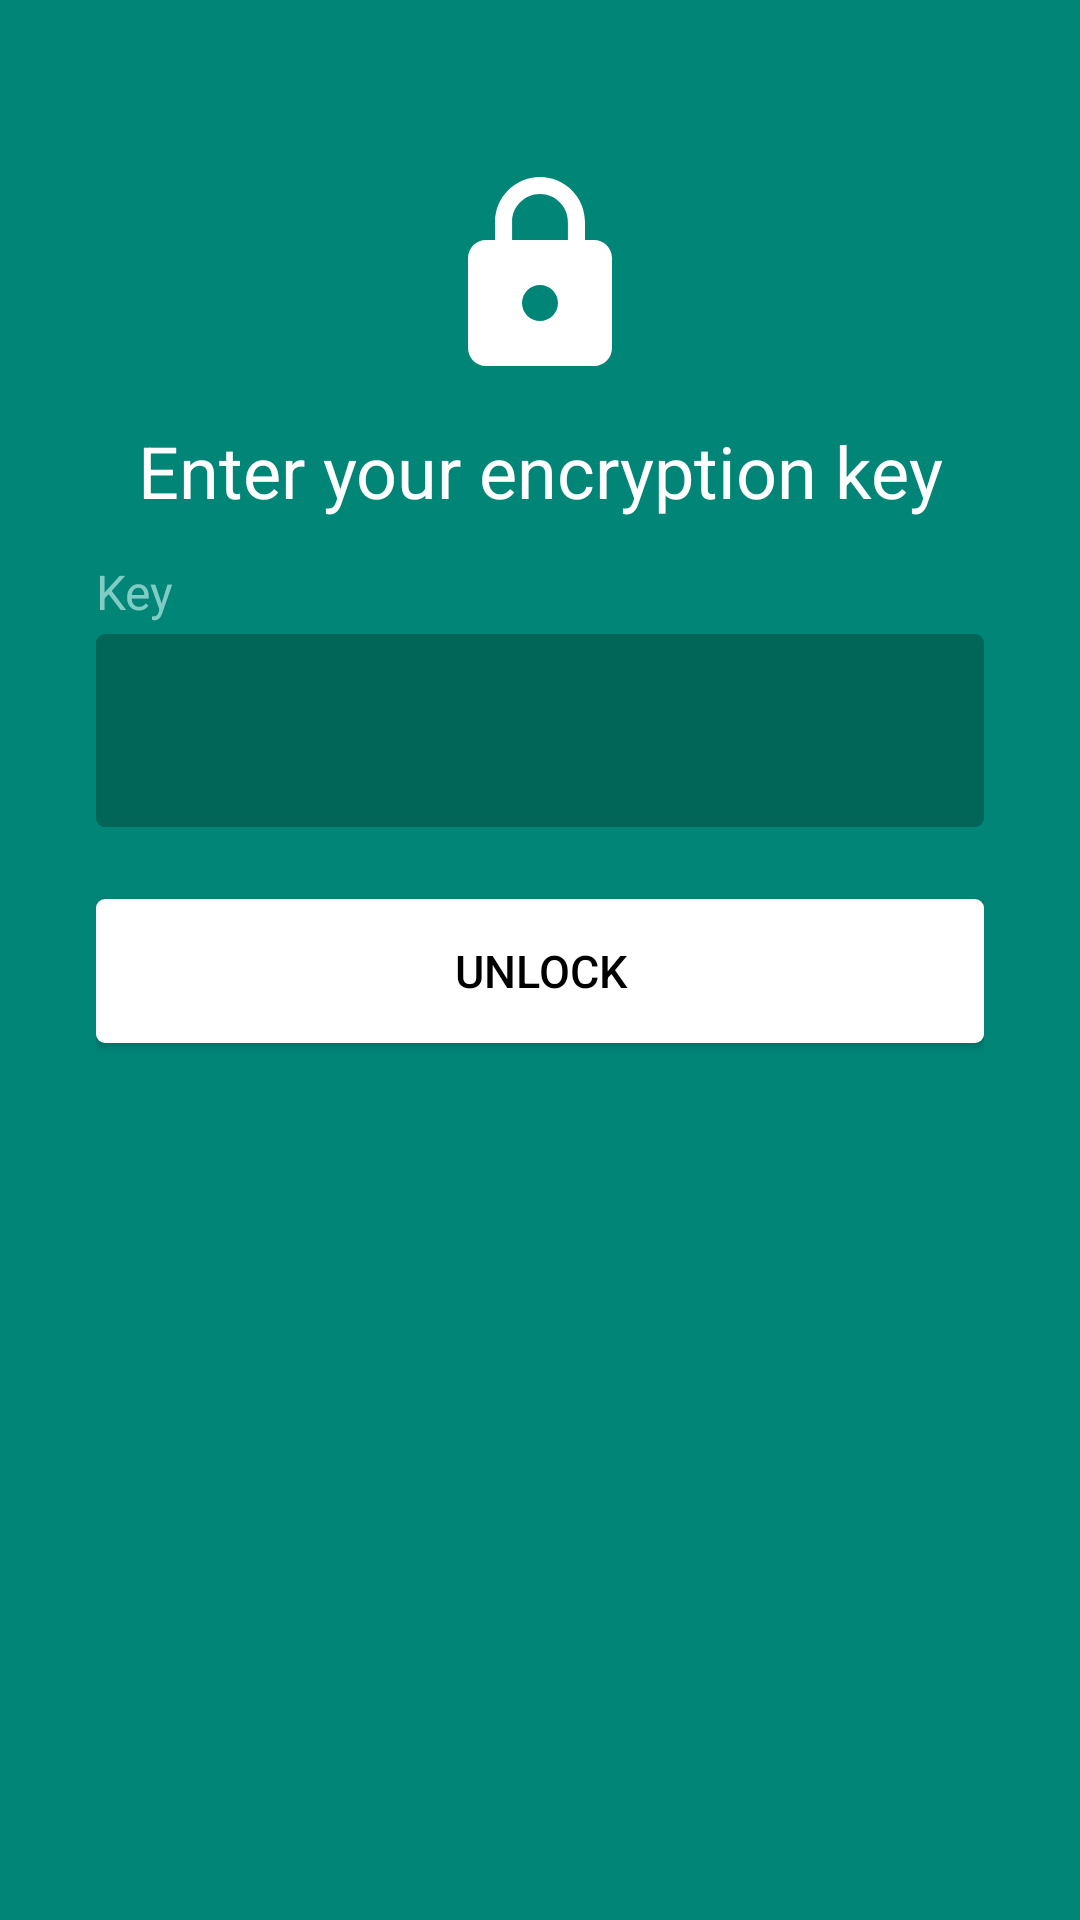

Icons on this 1080×1920 Android screen, each with its box as rect(x1, y1, x2, y2):
lock: rect(468, 177, 612, 366)
